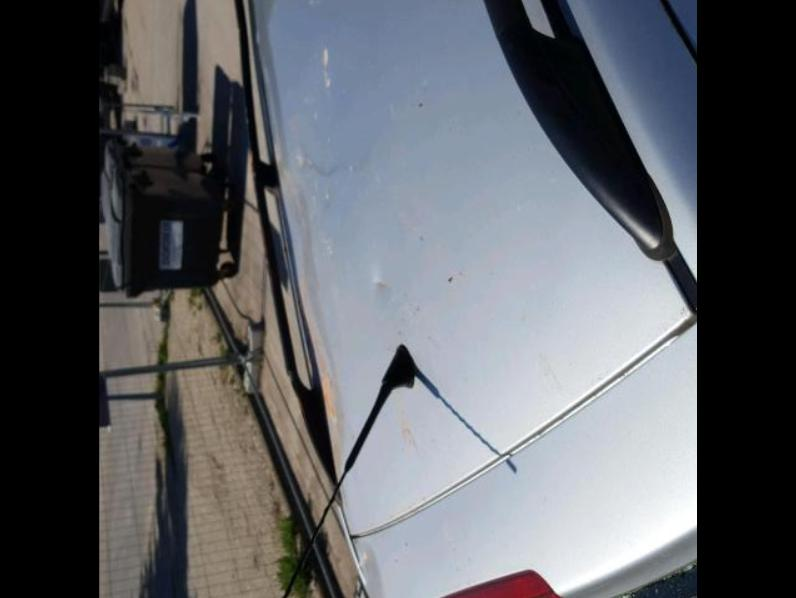Dent: (284, 193, 310, 268), (309, 318, 332, 399), (356, 540, 380, 598), (362, 268, 391, 299)
Flaking: (396, 416, 419, 454), (399, 294, 430, 320), (439, 268, 462, 288), (411, 227, 431, 244), (275, 139, 286, 167), (256, 27, 267, 46), (324, 237, 336, 254), (264, 67, 274, 85), (296, 150, 306, 167), (311, 108, 321, 124), (347, 160, 355, 169), (310, 0, 323, 5), (313, 179, 320, 188), (324, 193, 330, 200)
Paint chip: (357, 541, 372, 575)
Scratch: (279, 172, 351, 473)
